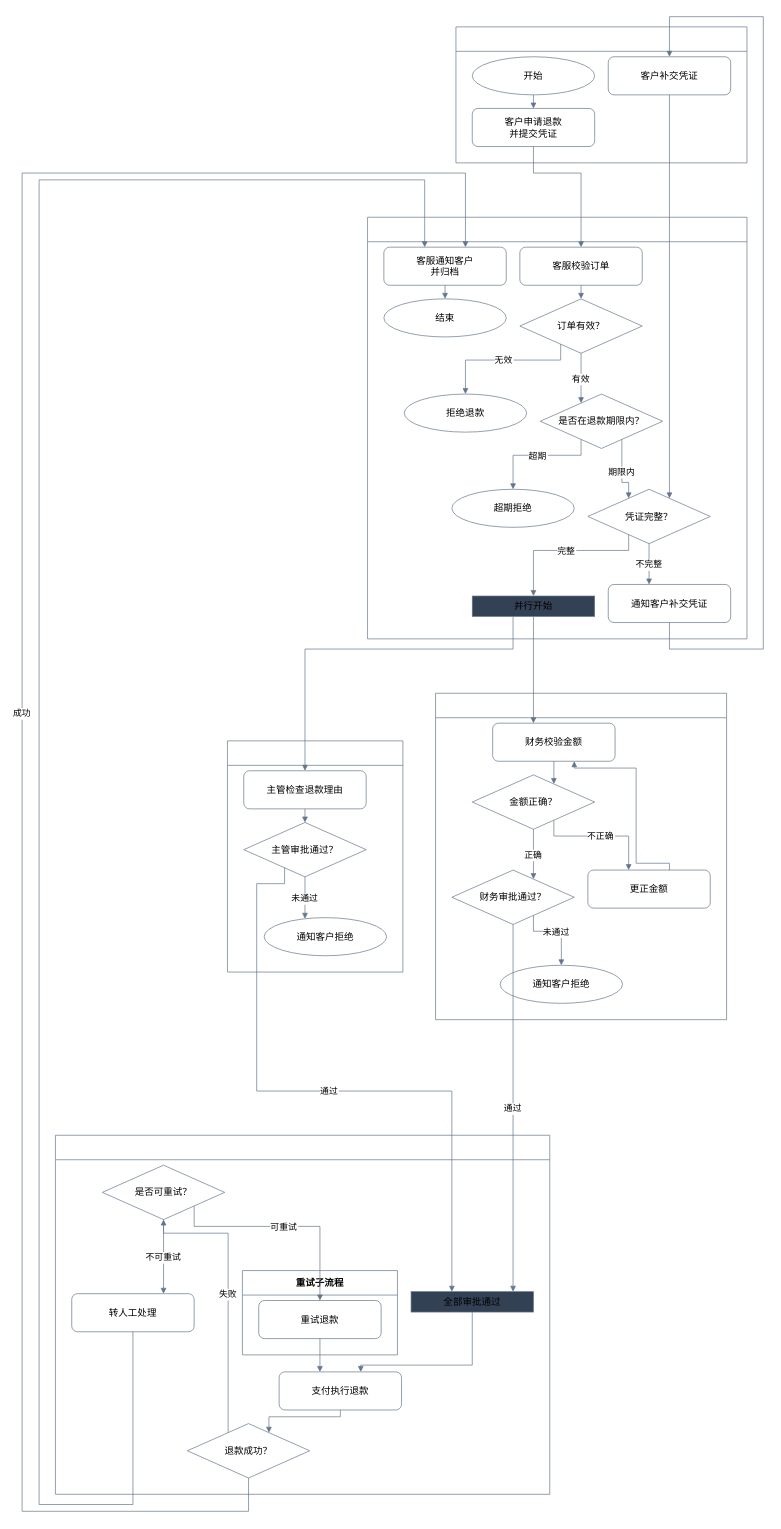
Some shapes in this 781 by 1529 pixel diagram are drawn without their labels. Here are the shapes that lost their labels. From the top down, the centre of each, then its label:
pixel 601 94: 客户
pixel 557 428: 客服
pixel 315 856: 主管
pixel 581 856: 财务
pixel 302 1314: 支付
